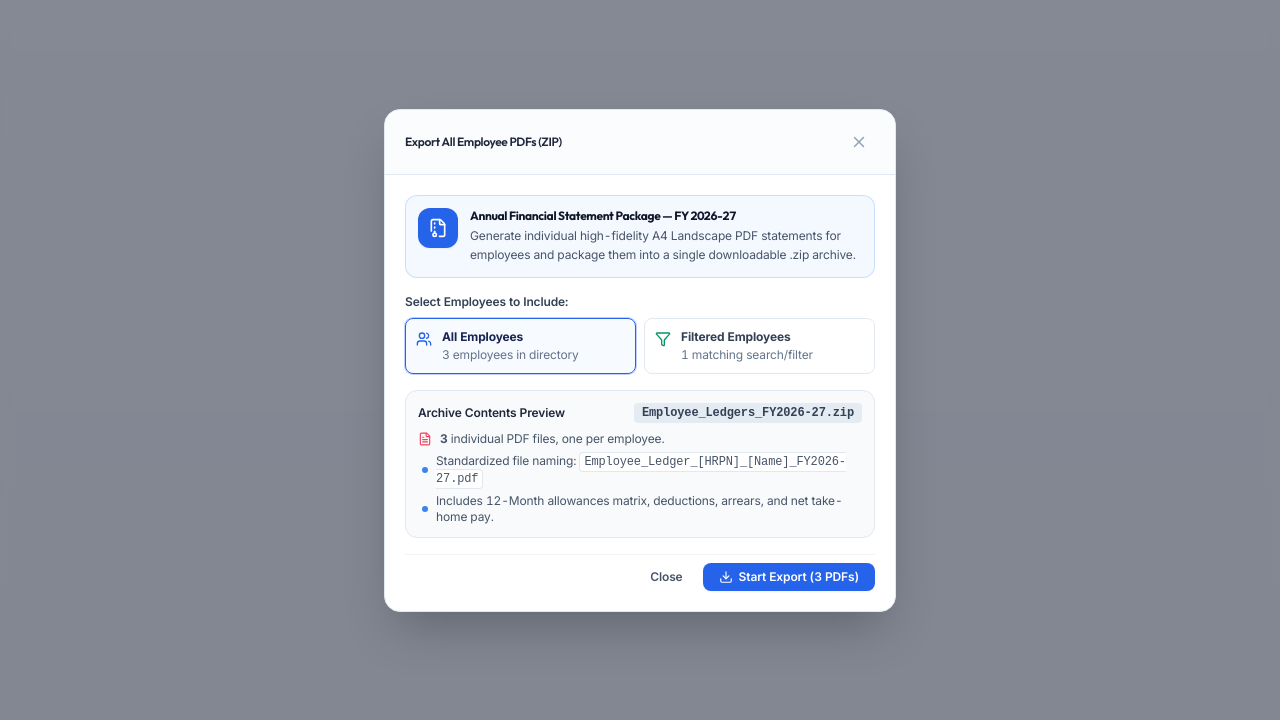
Scenario: BulkPdfExportModal › switches between all and filtered employee scopes
The image size is (1280, 720).
Click the button "Filtered Employees": x=760, y=346 x1=644 y1=318 x2=875 y2=374
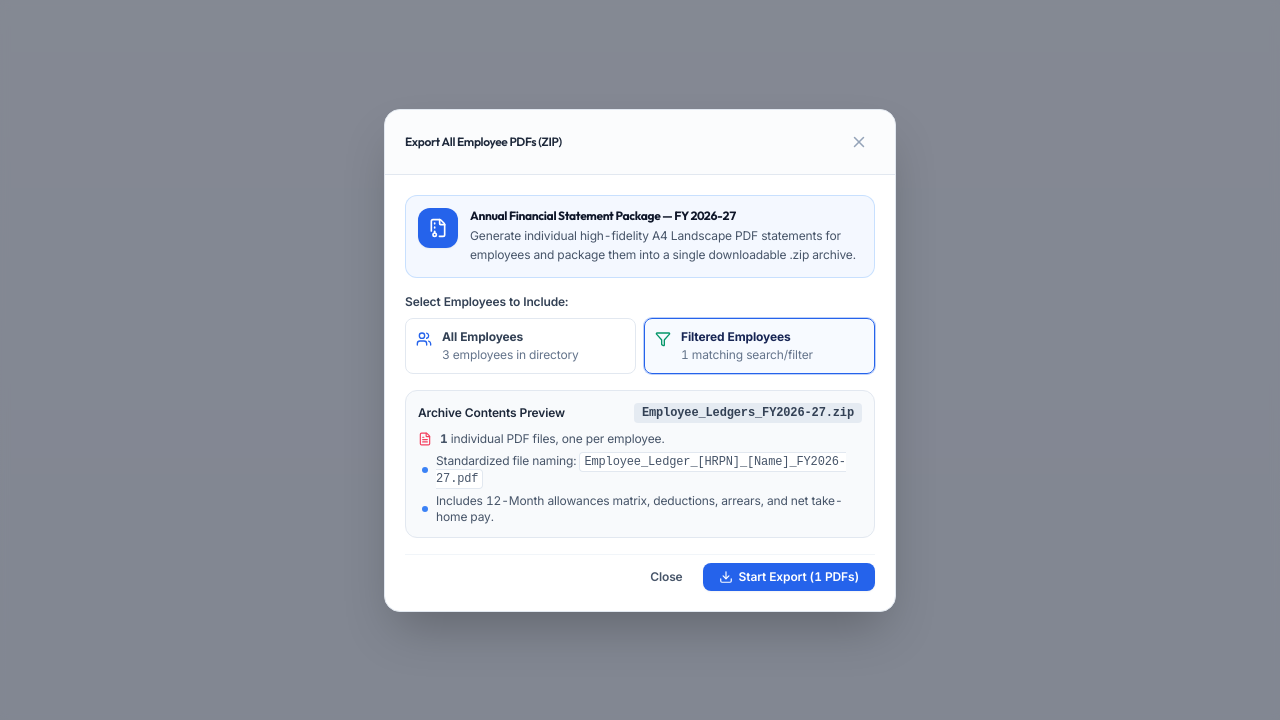
Expected: the text "Start Export (1 PDFs)" is shown, x1=739 y1=568 x2=859 y2=584
Click the button "All Employees 3 employees in directory": x=520, y=346 x1=405 y1=318 x2=636 y2=374
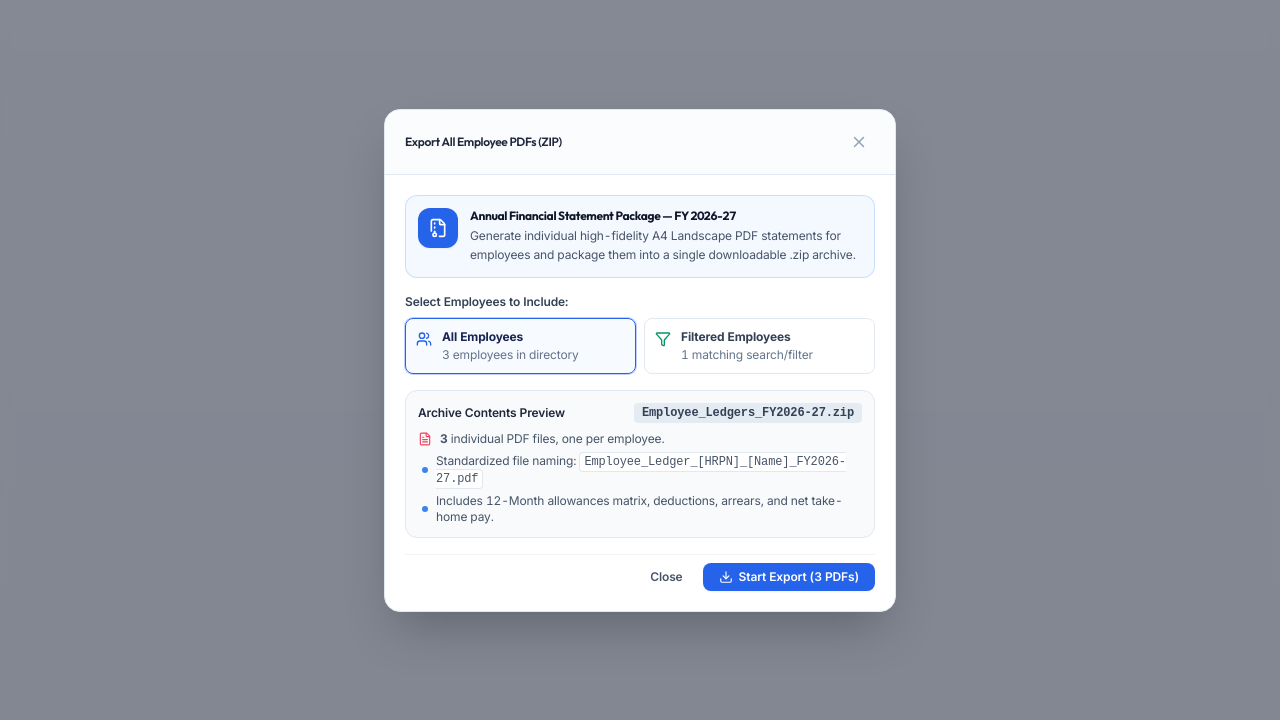
Expected: the text "Start Export (3 PDFs)" is shown, x1=739 y1=568 x2=859 y2=584
